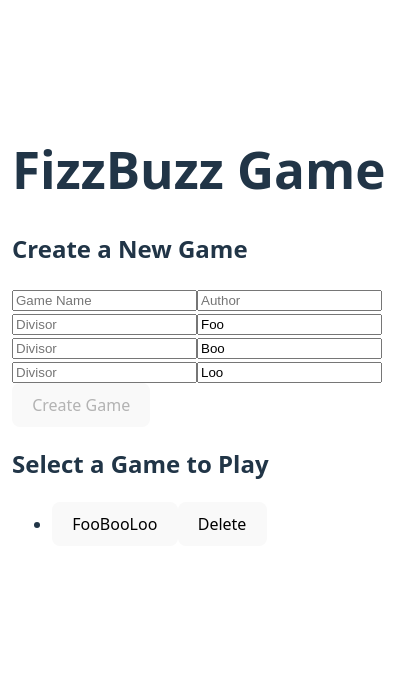
Test: App Component › submits an answer and updates the score
Click the button "FooBooLoo": x=115, y=524 [52, 502, 178, 546]
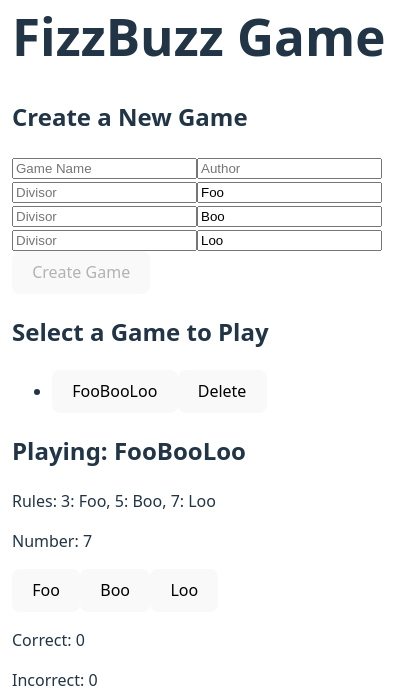
Result: the text "Number: 7" is shown at [12, 530, 92, 552]
// Submit the correct answer "Loo" (since 7 maps to Loo in the rules)
Click the button "Loo": x=184, y=590 [150, 569, 218, 612]
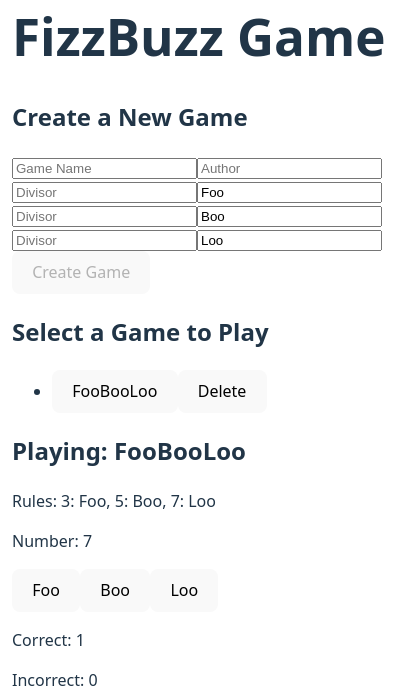
Result: the text "Correct: 1" is shown at [12, 629, 85, 651]
